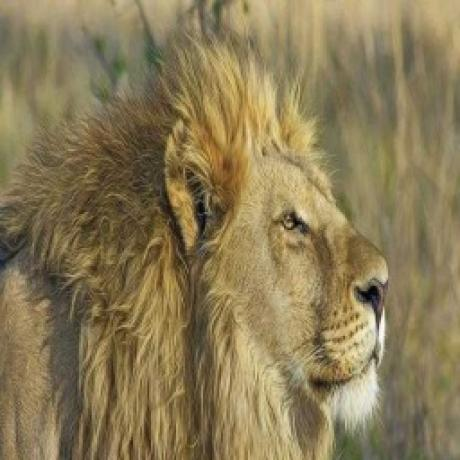Lion: (0, 15, 391, 460)
